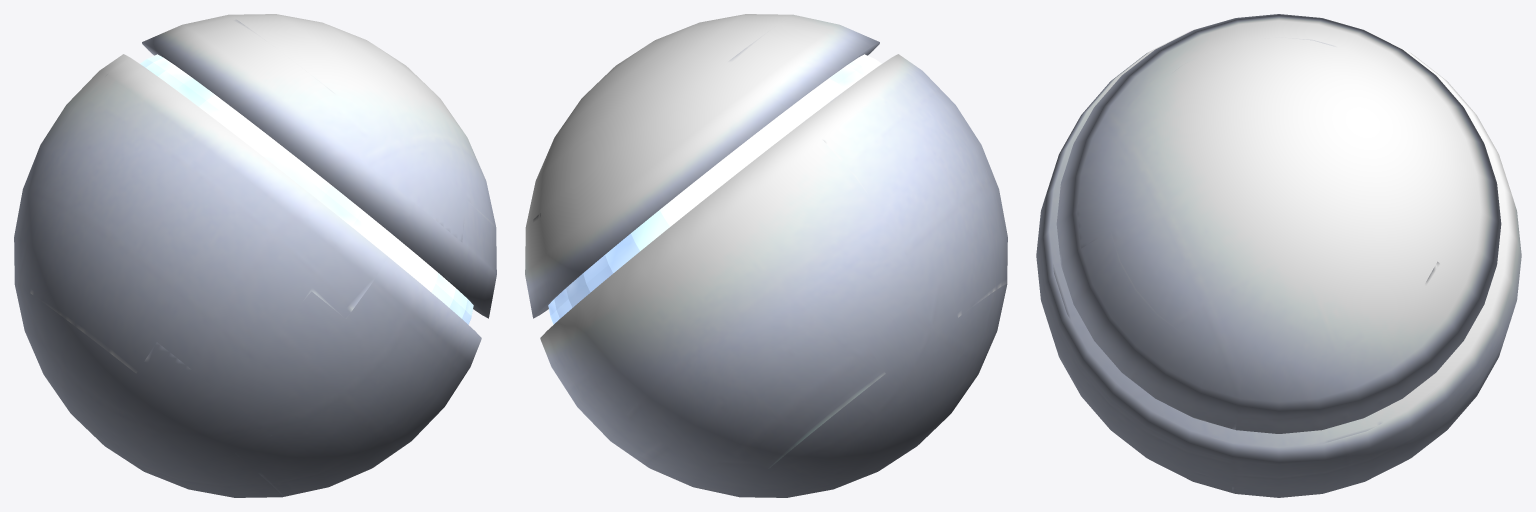
File: LamiaSphere.glb
The picture shows the model from 3 angles, left to right: view 1: azimuth 30°, elevation 25°; view 2: azimuth 150°, elevation 25°; view 3: azimuth 270°, elevation 25°; orthographic projection.
Visible parts, largest first — view 1: 球体.001, 球体.002; view 2: 球体.001, 球体.002; view 3: 球体.001.
Part boxes in pixels (x1,y1,x2,y2): 球体.001: (14, 14, 496, 497); 球体.002: (140, 54, 473, 324); 球体.001: (525, 14, 1007, 497); 球体.002: (548, 54, 881, 324); 球体.001: (1036, 14, 1521, 497).
Size of what is drawn, in the model's own units: 1.3 by 1.3 by 1.3.
2 materials, 2 textured.
